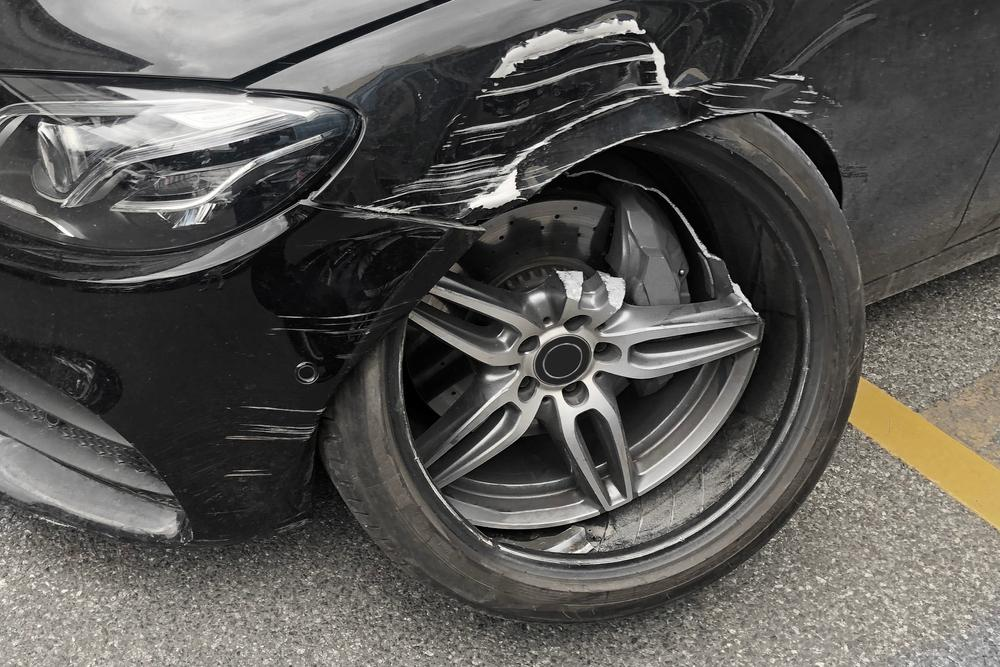scratch: (359, 16, 832, 226), (214, 232, 428, 487)
